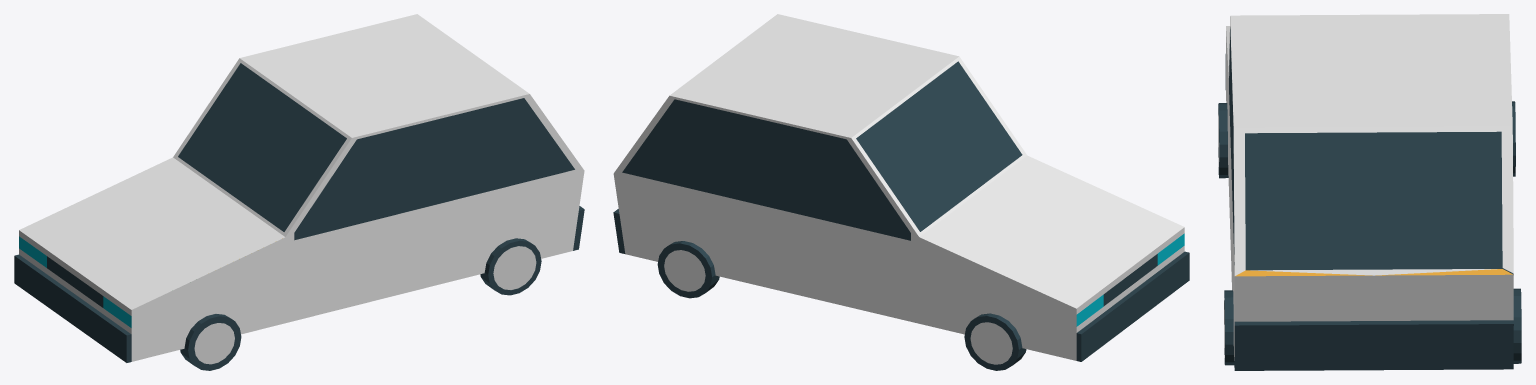
Rendered from car_03_1_2_world_ap_0_lev1.glb.
The picture shows the model from 3 angles, left to right: view 1: azimuth 30°, elevation 25°; view 2: azimuth 150°, elevation 25°; view 3: azimuth 270°, elevation 25°; orthographic projection. The views are drawn at different scales.
Parts seen in each view (by area): view 1: car_03_1_2_world_ap_0_lev1; view 2: car_03_1_2_world_ap_0_lev1; view 3: car_03_1_2_world_ap_0_lev1.
Boxes of the visible parts, x1,y1,x2,y2 form: car_03_1_2_world_ap_0_lev1: [14, 14, 584, 370]; car_03_1_2_world_ap_0_lev1: [613, 14, 1189, 370]; car_03_1_2_world_ap_0_lev1: [1218, 14, 1521, 370].
Bounding box in the file's own units: 1.51 × 0.6023 × 0.6731.
1 material, 1 textured.
